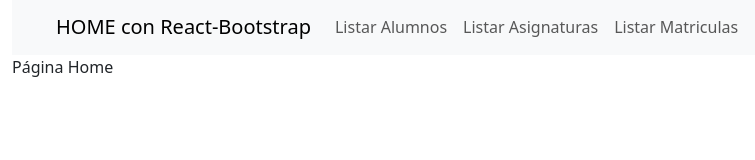
Menu component › el enlace Listar Alumnos navega a /personas
This screenshot has width=755, height=160.
Click the link "Listar Alumnos": (391, 27) x1=335 y1=16 x2=447 y2=38
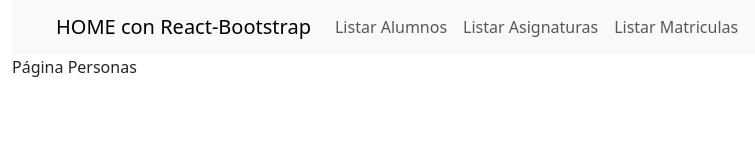
Expected: the text "Página Personas" is shown, x1=12 y1=56 x2=137 y2=78
